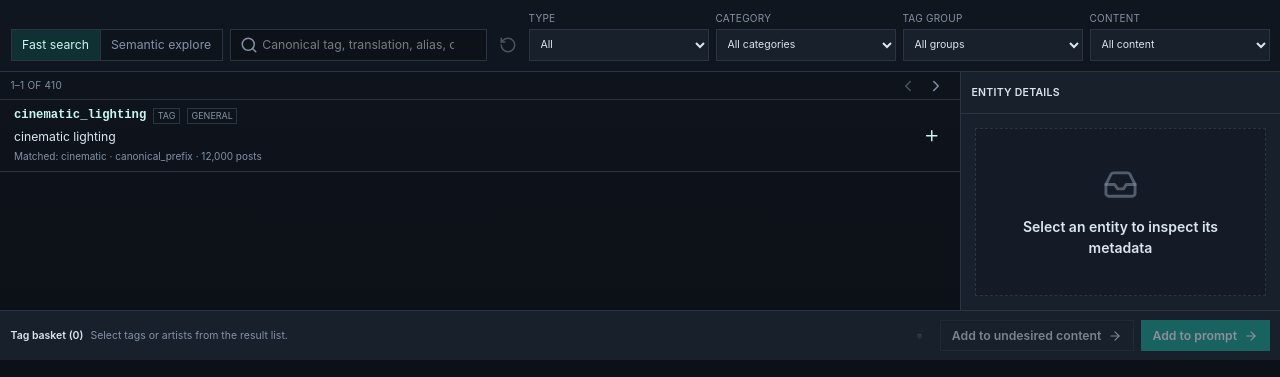
Test: LexiconPage › pages through the full filtered result count
expect the text "1–1 of 410" is shown: met, box [10,78,62,93]
What coordinates should you click on to do the following:
click the button named "Next results"
I would click on:
 (936, 86)
Its box is [922,72,950,100].
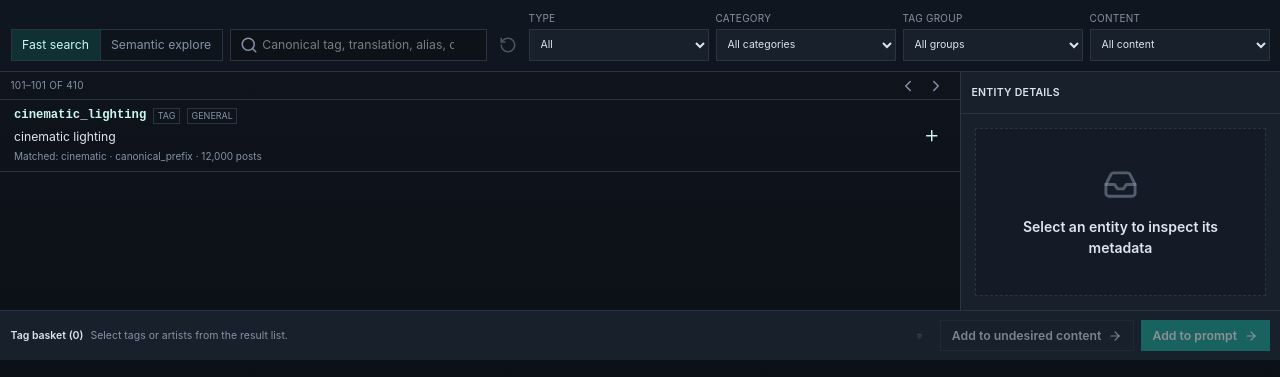
expect the text "101–101 of 410" is shown: met, box [10,78,84,93]
